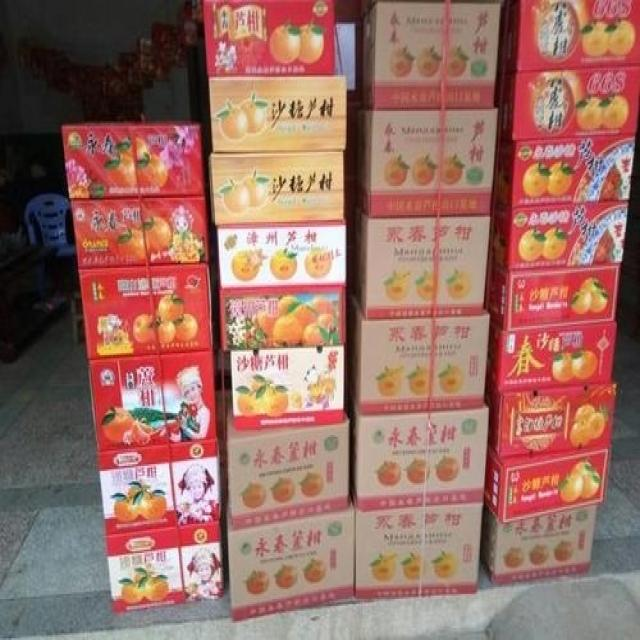box: (348, 287, 490, 417), (352, 197, 488, 320), (227, 391, 350, 527), (225, 495, 356, 622), (359, 107, 496, 217), (362, 2, 501, 108), (86, 351, 228, 452), (349, 407, 488, 509), (78, 263, 215, 357), (355, 501, 482, 599), (97, 439, 223, 534), (106, 522, 225, 615), (496, 63, 639, 138), (62, 126, 206, 200), (484, 376, 615, 457), (209, 77, 346, 153), (496, 1, 639, 73), (493, 138, 636, 210), (209, 151, 343, 225), (489, 200, 628, 271), (71, 198, 210, 269), (202, 0, 334, 74), (486, 261, 621, 332), (484, 447, 608, 524), (479, 503, 596, 583), (486, 320, 614, 392), (232, 347, 344, 427), (215, 222, 348, 289), (218, 286, 346, 351)
